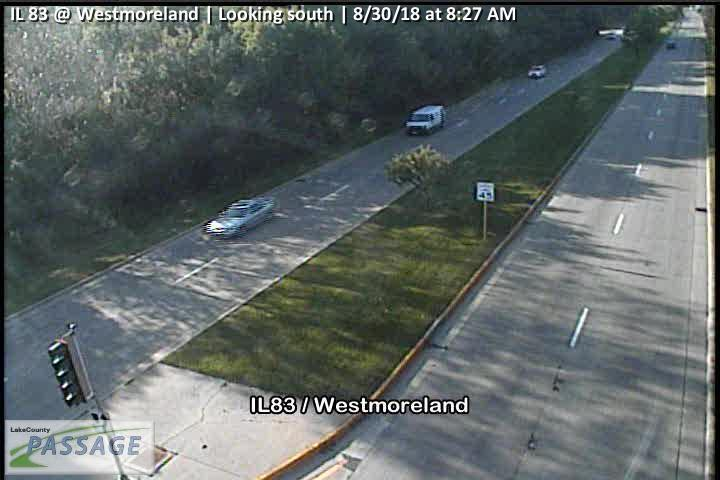SUV: (405, 104, 446, 136), (527, 63, 547, 79)
Sedan: (205, 197, 275, 239)
